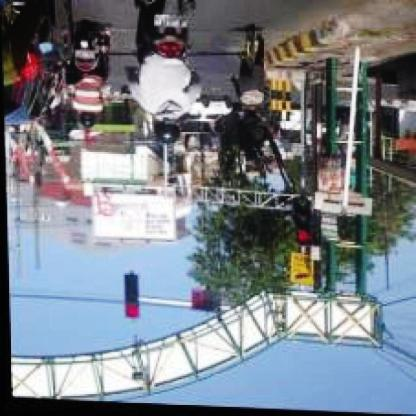Traffic Light -Red-: (294, 200, 310, 247), (122, 276, 138, 321)
